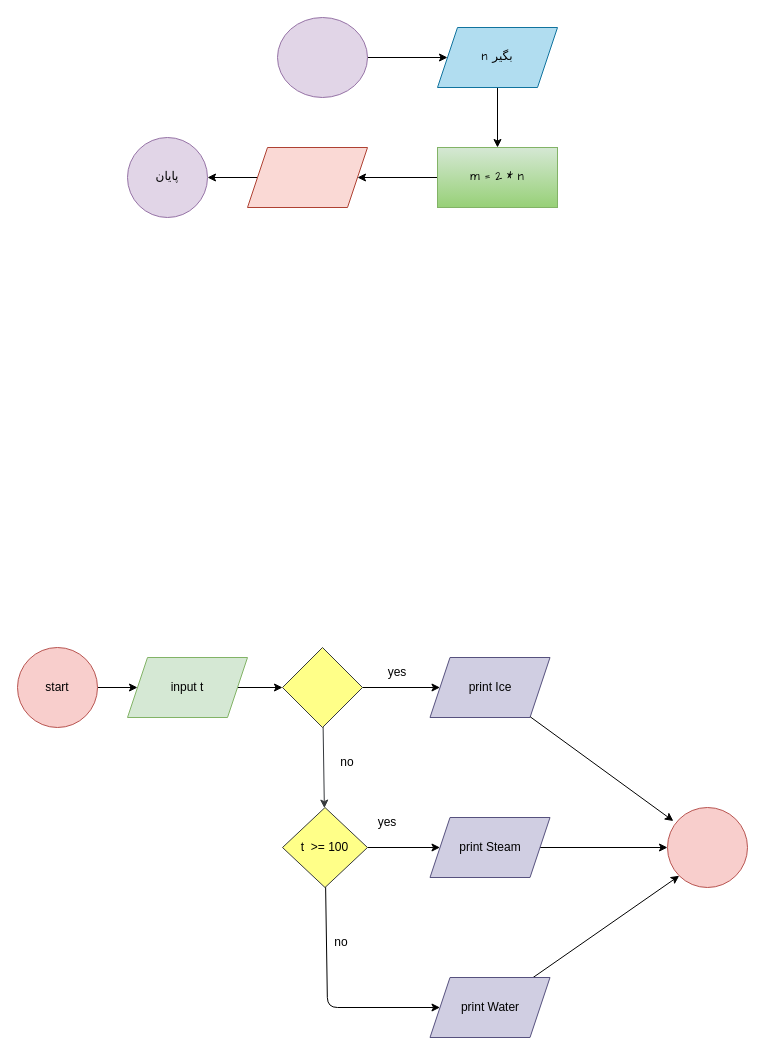
Some shapes in this 765 by 1055 pixel diagram are drawn without their labels. The shapes that lost their labels are listed below. From the top down, each one's box as (x1, y1, x2, y2) in pixels, then its label:
(276, 16, 368, 98): شروع
(246, 146, 368, 208): m را چاپ کن
(282, 646, 362, 728): t <= 0
(666, 806, 748, 888): finish
